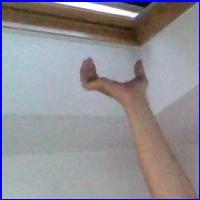space: (76, 51, 155, 105)
